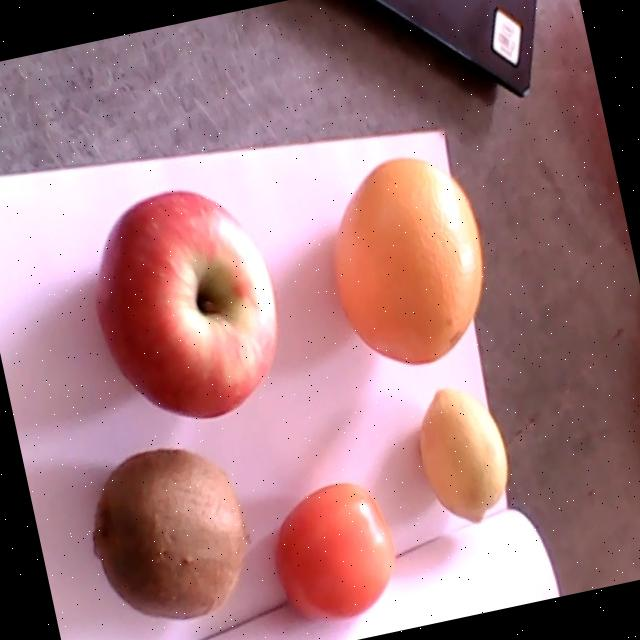apple: (93, 189, 277, 420)
kiwi: (92, 450, 253, 619)
lemon: (418, 388, 509, 522)
orange: (333, 156, 483, 364)
tomato: (274, 485, 397, 620)
